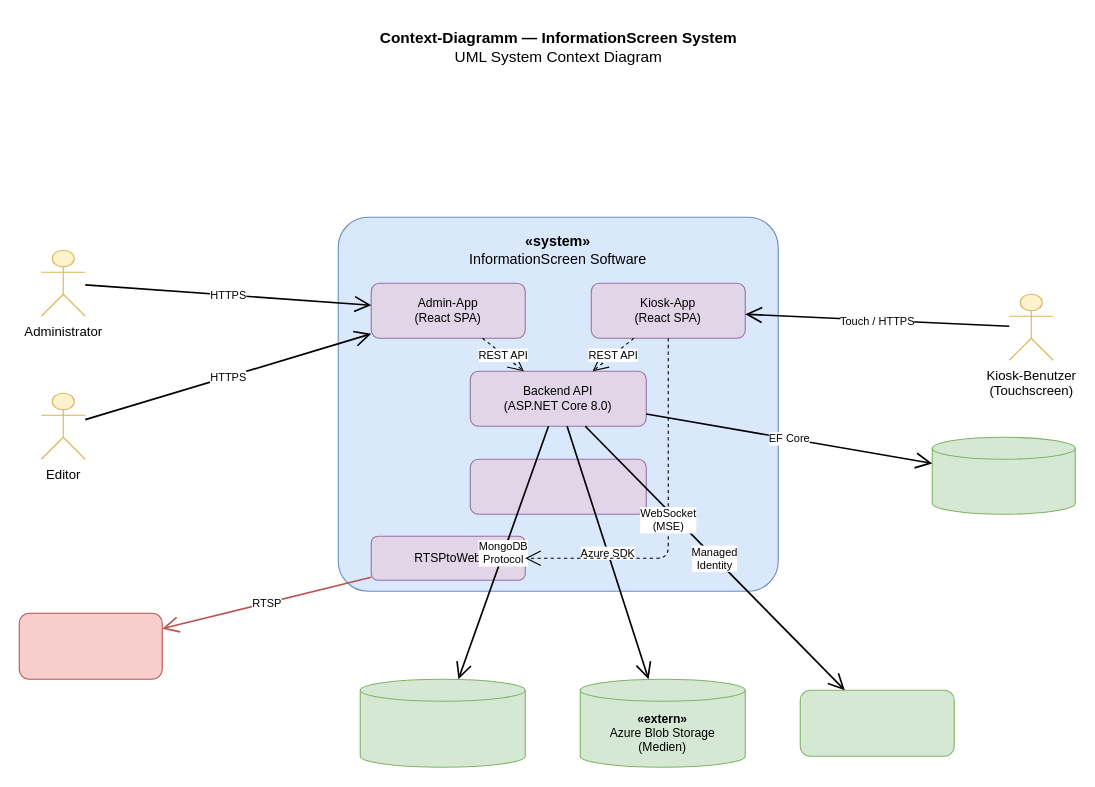
This 1095x787 diagram has some shape labels left out. The shapes that lost their labels are listed below. From the top down, each one's centre as x and y in pixels, then its label:
At (557,486): "Nginx Reverse Proxy".
At (1003,475): "SQLite DB (Auth + Settings)".
At (90,645): "«extern» IP-Kameras (RTSP)".
At (442,722): "«extern» Azure Cosmos DB (MongoDB API)".
At (876,722): "«extern» Azure Key Vault (Secrets)".
